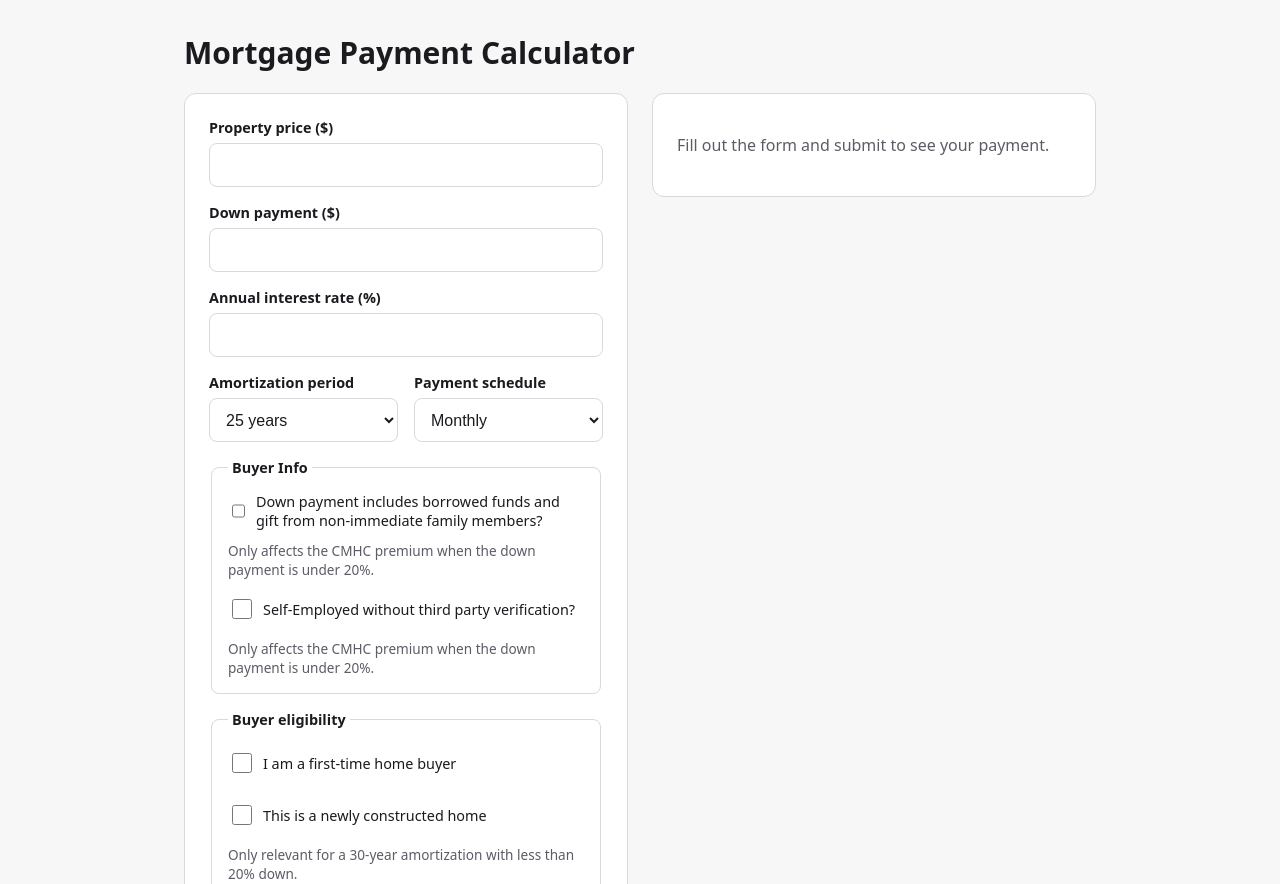
Test case: App › says when a non-traditional down payment does not change the premium
10% down: the non-traditional table prices this identically to standard.
In the field labelled "Property price ($)": (406, 165) [209,143,603,187], type "1200000"
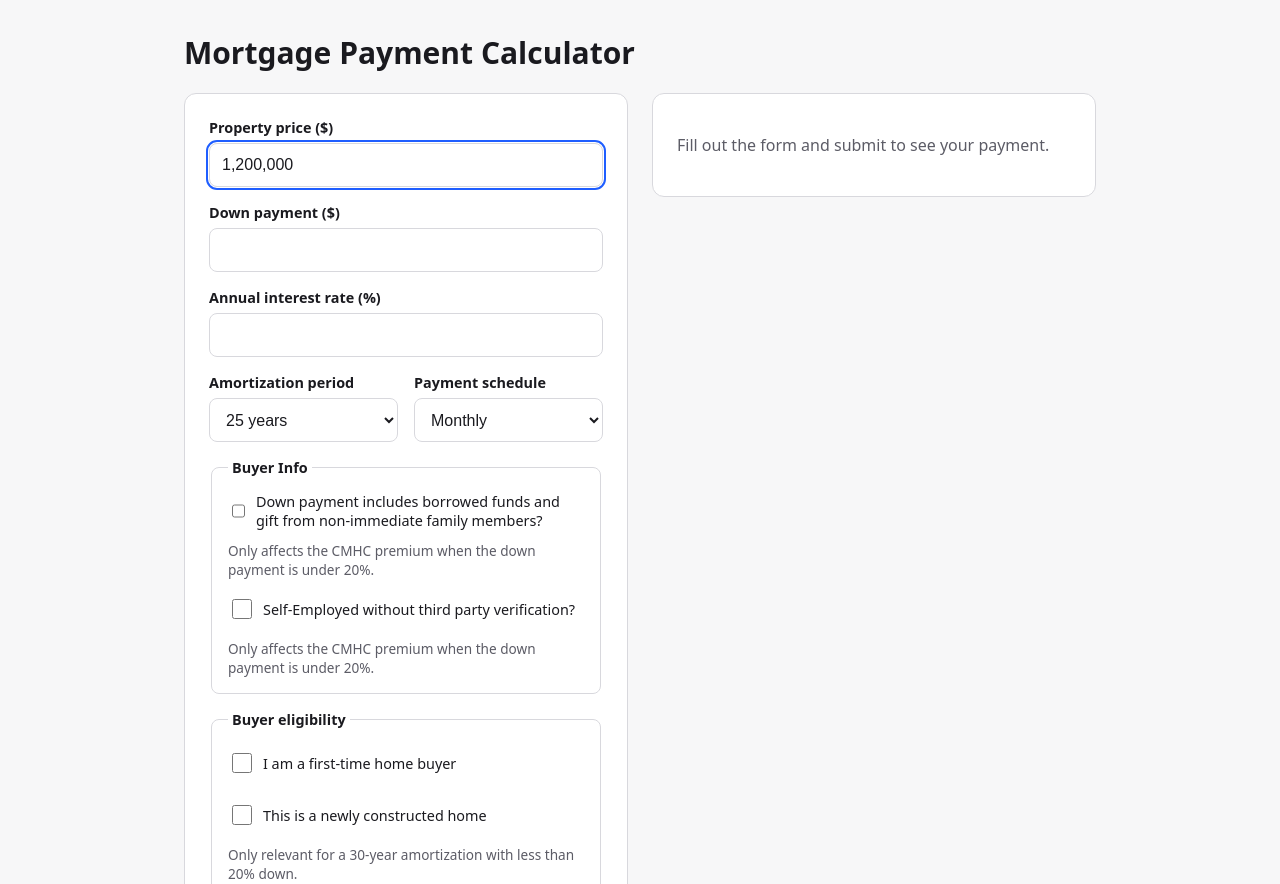
In the field labelled "Down payment ($)": (406, 250) [209,228,603,272], type "120000"
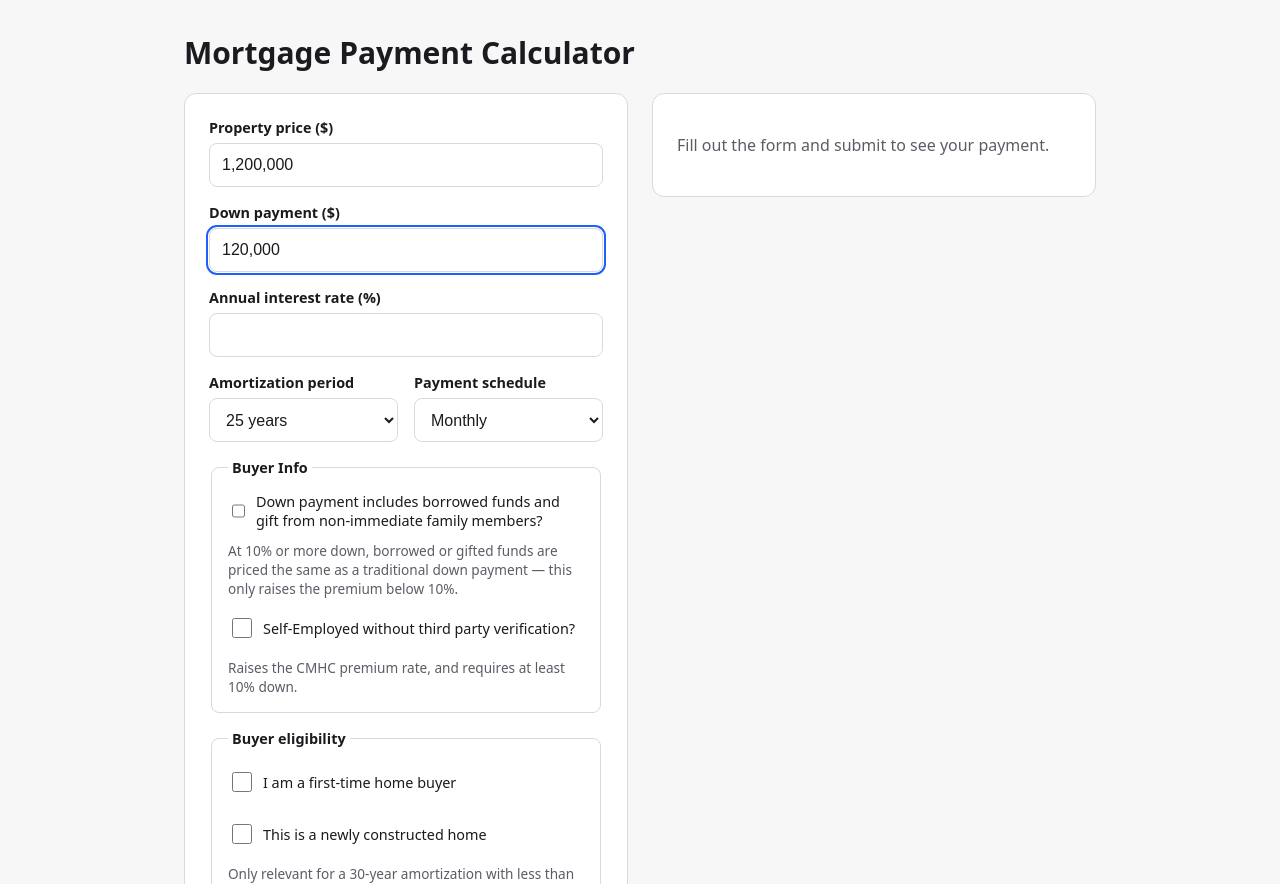
Result: the text "priced the same as a traditional down payment" is shown at [228,541,572,598]
